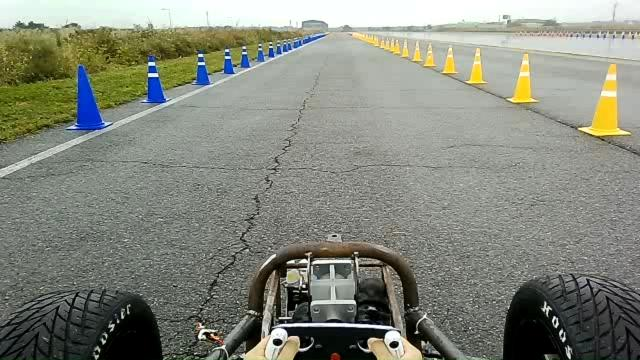blue cone: (65, 63, 113, 131), (140, 55, 170, 103), (191, 49, 212, 85), (221, 45, 236, 74), (239, 45, 251, 68), (255, 42, 265, 62), (268, 41, 276, 58), (275, 40, 283, 55)
yellow cone: (577, 63, 631, 136), (506, 52, 539, 103), (465, 47, 487, 84), (441, 45, 458, 74), (423, 42, 436, 66), (411, 40, 423, 62), (400, 39, 410, 58), (392, 40, 401, 55)
